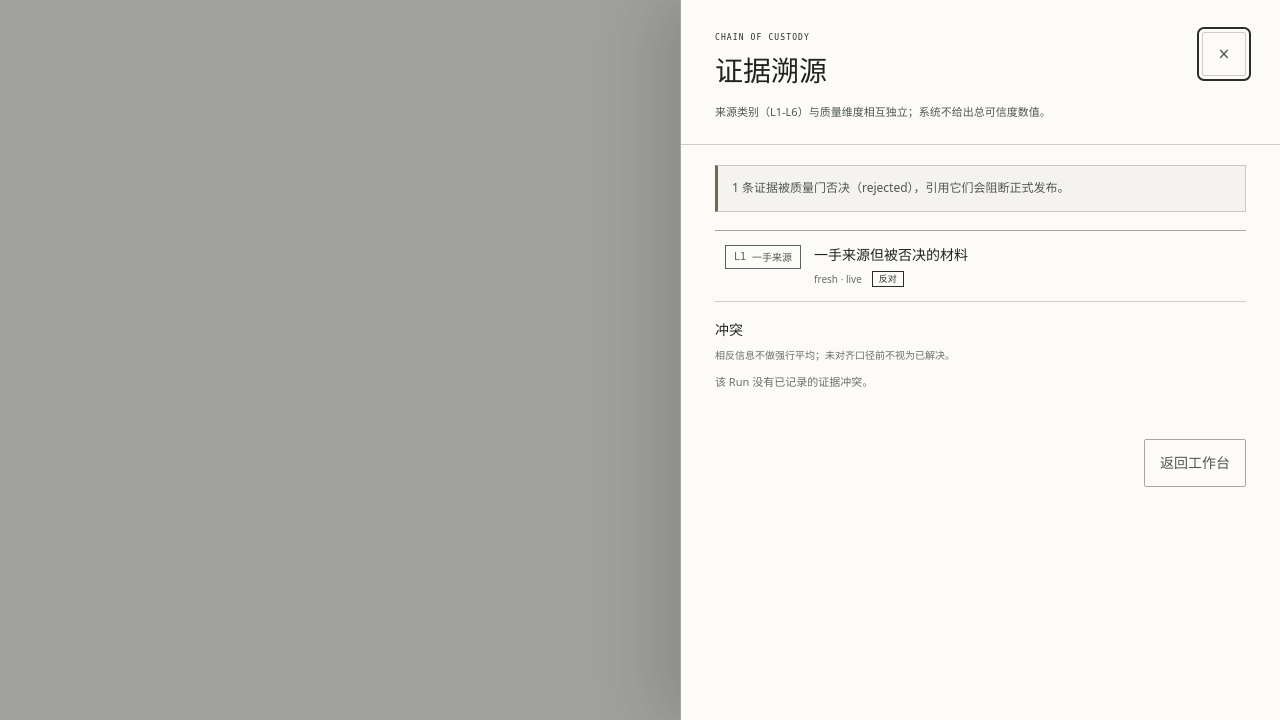
Scenario: QA P6: L1 badge is a source CATEGORY, never an acceptance verdict › L1_primary + verdict=rejected: badge keeps the category label; only the four-tier verdict speaks acceptance
Expected: the element with class "source-grade-badge" is shown, [725,245,801,269]
Expected: the element with class "source-grade-badge" shows "一手来源", [752,250,792,264]
Step 1. Click the button "L1 一手来源 一手来源但被否决的材料 fresh · live 反对" → (763, 257), box [715,231,1246,302]
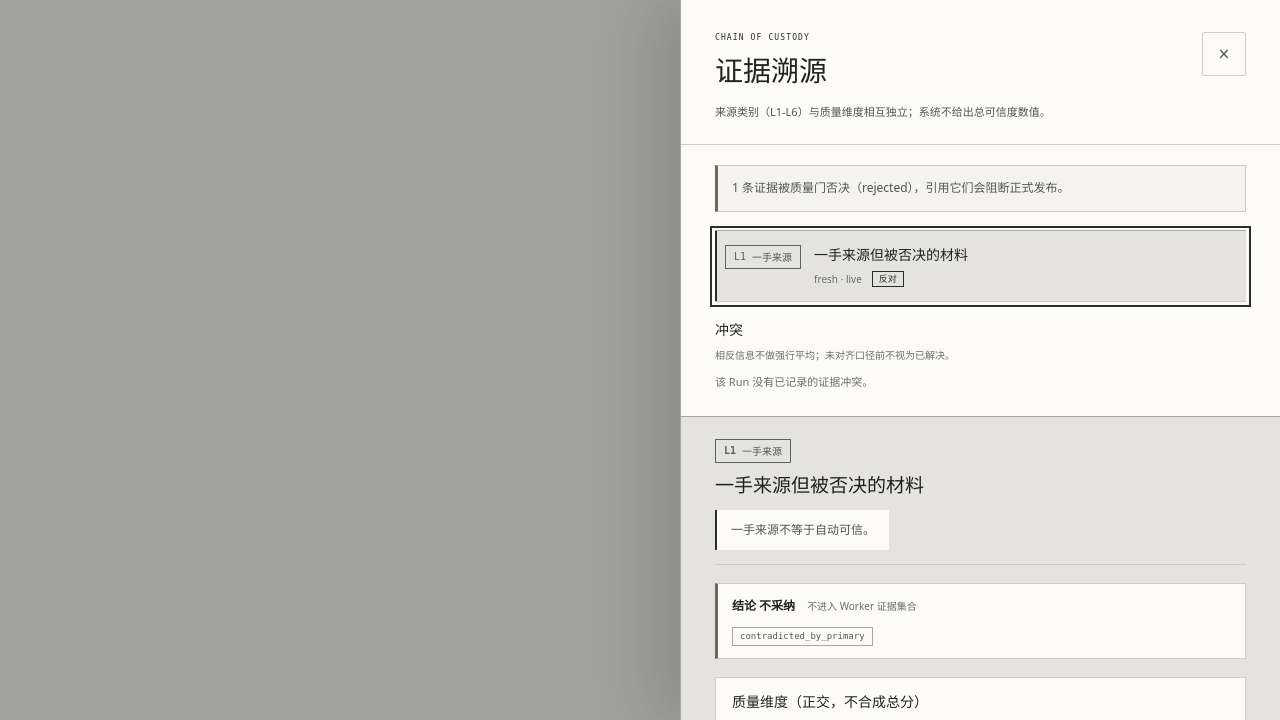
Result: the text "结论 不采纳" is shown at [732,596,795,615]
Result: the 2nd element with class "source-grade-badge" shows "一手来源" at [742,444,782,458]
Result: the element showing "结论 不采纳 不进入 Worker 证据集合 contradicted_by_primary" is shown at [715,583,1246,659]
